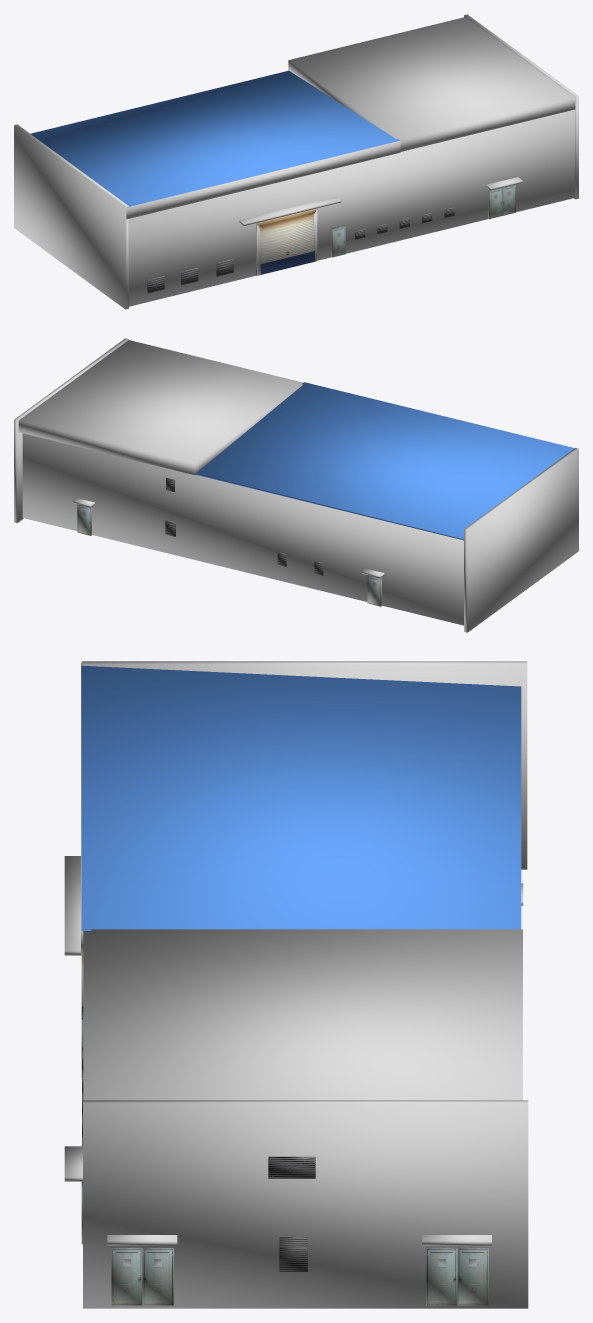
The model's file is cyv_2f_mini.gltf.
3 views of the same model, one above another, from view 1: azimuth 30°, elevation 25°; view 2: azimuth 150°, elevation 25°; view 3: azimuth 270°, elevation 25° (orthographic). The views are drawn at different scales.
Visible parts, largest first — view 1: cyv_waiguan_1, cyv_waiguan, cyv_waiguan_4, cyv_waiguan_3, cyv_waiguan_11, cyv_waiguan_14, cyv_waiguan_2, cyv_waiguan_5, cyv_waiguan_15, cyv_waiguan_13, cyv_waiguan_12; view 2: cyv_waiguan_1, cyv_waiguan, cyv_waiguan_4, cyv_waiguan_3, cyv_waiguan_2, cyv_waiguan_25, cyv_waiguan_24; view 3: cyv_waiguan, cyv_waiguan_2, cyv_waiguan_4, cyv_waiguan_3, cyv_waiguan_26, cyv_waiguan_28, cyv_waiguan_27, cyv_waiguan_29, cyv_waiguan_5, cyv_waiguan_30, cyv_waiguan_31.
Part boxes in pixels (left/top/right/bottom): cyv_waiguan_1: left=129, top=109, right=574, bottom=306; cyv_waiguan: left=30, top=70, right=400, bottom=207; cyv_waiguan_4: left=288, top=17, right=575, bottom=151; cyv_waiguan_3: left=14, top=124, right=128, bottom=309; cyv_waiguan_11: left=126, top=140, right=400, bottom=219; cyv_waiguan_14: left=256, top=208, right=317, bottom=275; cyv_waiguan_2: left=464, top=14, right=578, bottom=199; cyv_waiguan_5: left=239, top=196, right=341, bottom=225; cyv_waiguan_15: left=331, top=225, right=345, bottom=257; cyv_waiguan_13: left=488, top=188, right=502, bottom=219; cyv_waiguan_12: left=502, top=184, right=515, bottom=215; cyv_waiguan_1: left=22, top=433, right=463, bottom=625; cyv_waiguan: left=196, top=382, right=574, bottom=540; cyv_waiguan_4: left=18, top=340, right=302, bottom=475; cyv_waiguan_3: left=464, top=448, right=578, bottom=632; cyv_waiguan_2: left=14, top=338, right=128, bottom=522; cyv_waiguan_25: left=367, top=575, right=381, bottom=606; cyv_waiguan_24: left=77, top=504, right=91, bottom=535; cyv_waiguan: left=81, top=665, right=521, bottom=930; cyv_waiguan_2: left=83, top=1100, right=528, bottom=1308; cyv_waiguan_4: left=83, top=929, right=522, bottom=1100; cyv_waiguan_3: left=81, top=661, right=527, bottom=869; cyv_waiguan_26: left=111, top=1247, right=142, bottom=1305; cyv_waiguan_28: left=426, top=1247, right=457, bottom=1305; cyv_waiguan_27: left=142, top=1247, right=173, bottom=1305; cyv_waiguan_29: left=457, top=1247, right=488, bottom=1305; cyv_waiguan_5: left=64, top=856, right=83, bottom=955; cyv_waiguan_30: left=268, top=1156, right=315, bottom=1178; cyv_waiguan_31: left=279, top=1237, right=307, bottom=1271.
Bounding box in the file's own units: 148 × 31.54 × 64.64.
12 materials, 10 textured.
